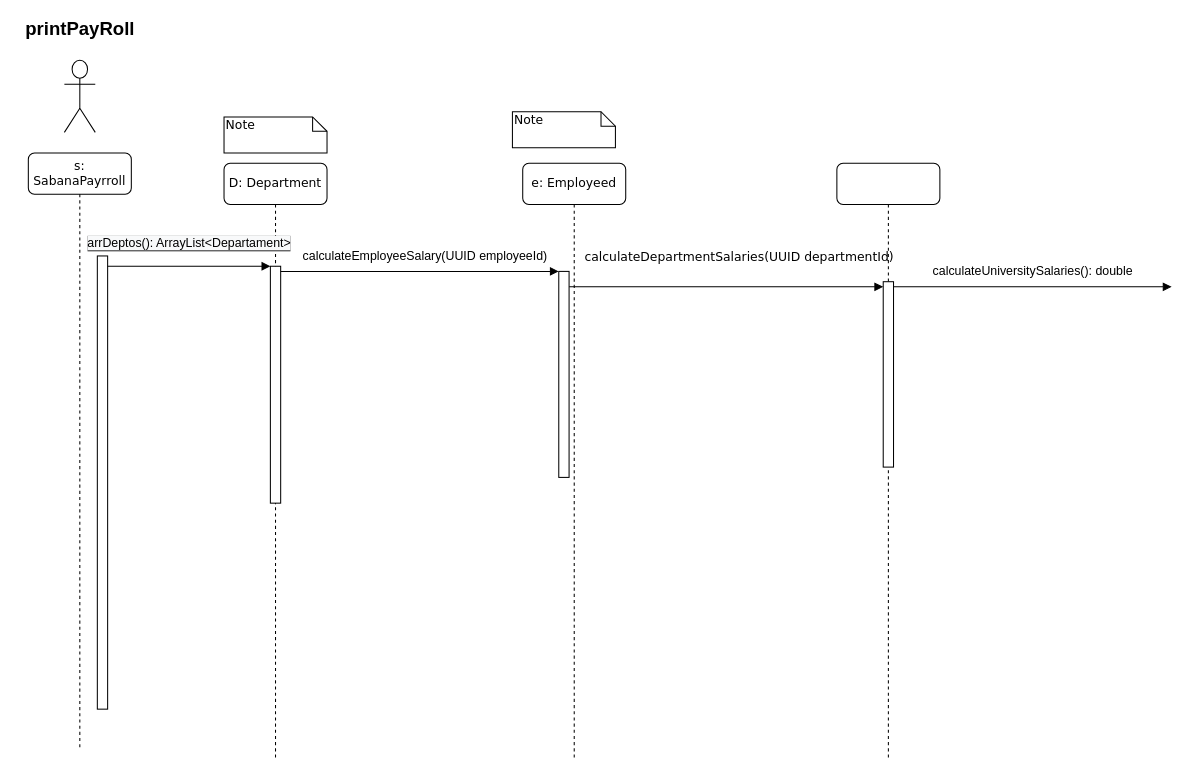
Image size: 1198x779. Some labels were removed from this diagram. Each missing label, with the centre of its shape:
"Actor" goes at (x=79, y=95).
"u: University" goes at (x=888, y=461).
